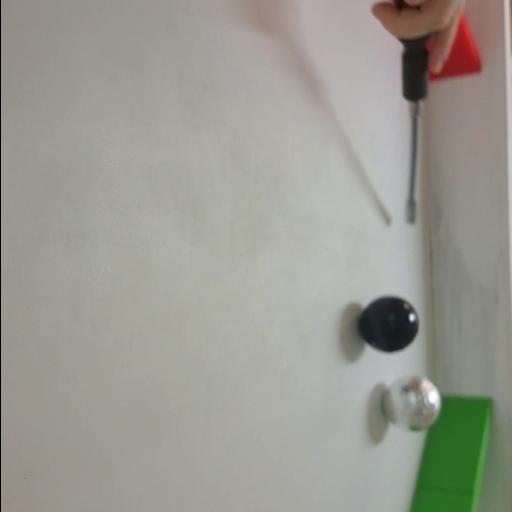alive: (380, 374, 440, 432)
dead: (357, 294, 419, 354)
